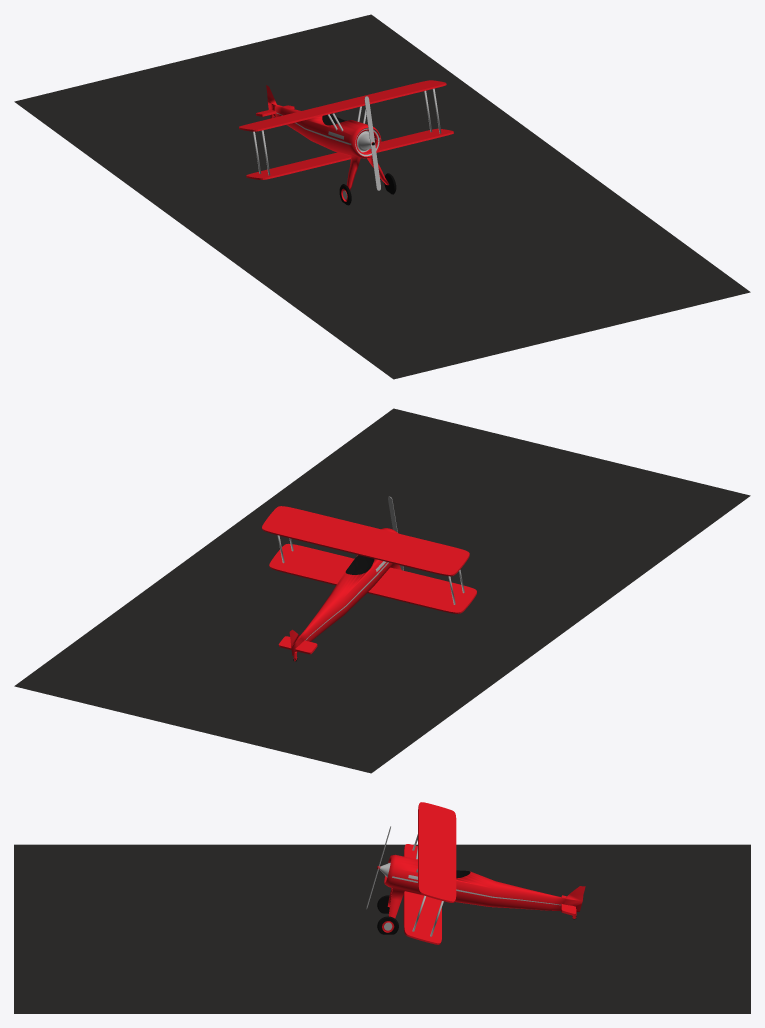
The model's file is avion.gltf.
The picture shows the model from 3 angles, top to bottom: view 1: azimuth 30°, elevation 25°; view 2: azimuth 150°, elevation 25°; view 3: azimuth 270°, elevation 25°; orthographic projection. The views are drawn at different scales.
Visible parts, largest first — view 1: Plane, Cylinder, Plane.001, Plane.002; view 2: Plane, Plane.001, Plane.002, Cylinder; view 3: Plane, Cylinder, Plane.001, Plane.002.
Boxes of the visible parts, bbox=[...] form: Plane: bbox=[14, 14, 750, 379]; Cylinder: bbox=[266, 85, 396, 205]; Plane.001: bbox=[239, 80, 446, 131]; Plane.002: bbox=[246, 128, 453, 179]; Plane: bbox=[14, 408, 750, 773]; Plane.001: bbox=[262, 506, 469, 576]; Plane.002: bbox=[269, 543, 476, 613]; Cylinder: bbox=[289, 528, 401, 661]; Plane: bbox=[14, 844, 750, 1013]; Cylinder: bbox=[377, 854, 585, 934]; Plane.001: bbox=[418, 802, 456, 902]; Plane.002: bbox=[403, 844, 441, 944].
Size of the model in its own units: 40.41 by 11.05 by 74.34.
